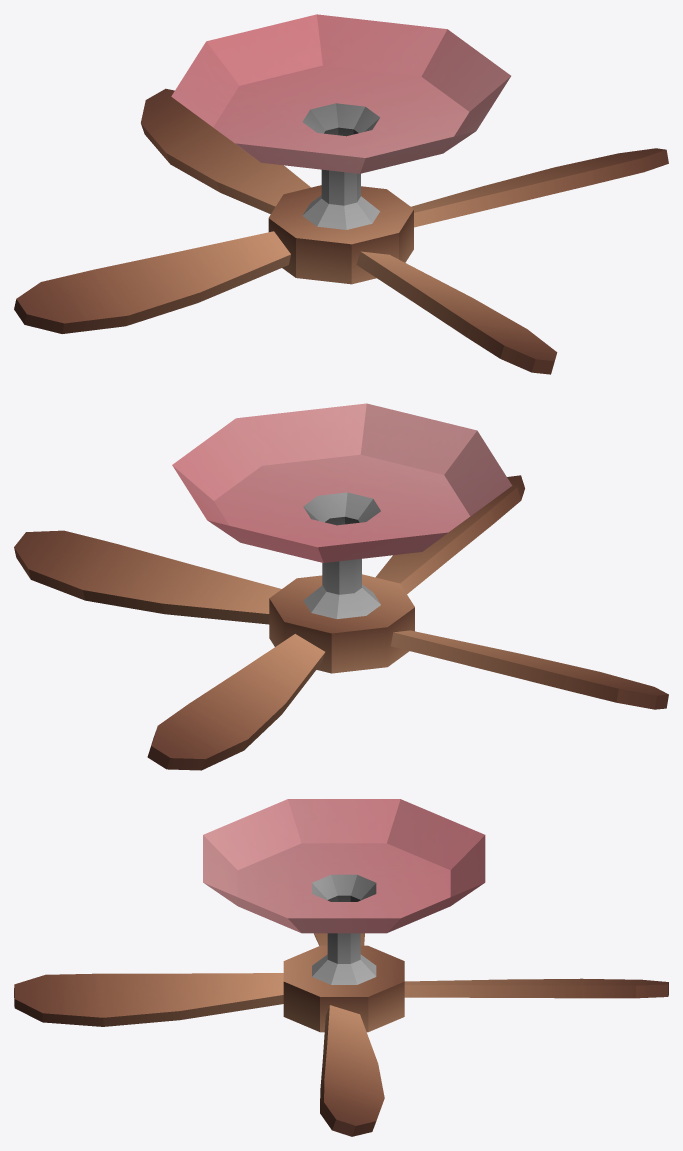
Rendered from SM_ceilingFan.fbx.
3 views of the same model, one above another, from view 1: azimuth 30°, elevation 25°; view 2: azimuth 150°, elevation 25°; view 3: azimuth 270°, elevation 25° (orthographic). The views are drawn at different scales.
Visible parts, largest first — view 1: ceilingFanBlade, ceilingFanHolder; view 2: ceilingFanBlade, ceilingFanHolder; view 3: ceilingFanHolder, ceilingFanBlade.
Part boxes in pixels (bbox=[...]): ceilingFanBlade: bbox=[14, 88, 668, 374]; ceilingFanHolder: bbox=[171, 14, 510, 229]; ceilingFanBlade: bbox=[14, 475, 668, 770]; ceilingFanHolder: bbox=[172, 403, 512, 618]; ceilingFanHolder: bbox=[203, 799, 485, 984]; ceilingFanBlade: bbox=[14, 933, 668, 1136].
Bounding box in the file's own units: 961 × 257 × 960.
